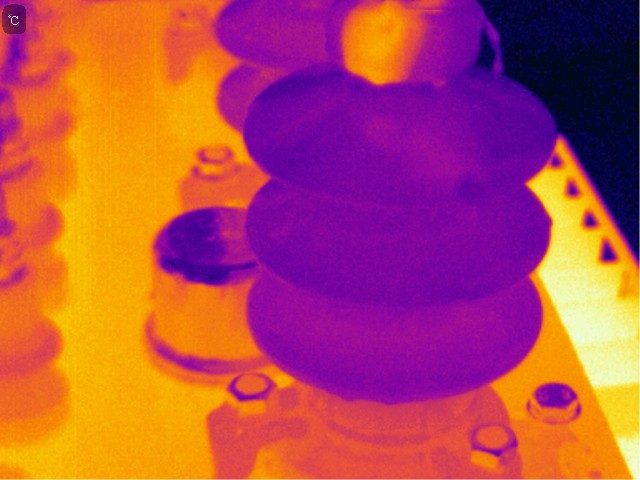Oil: (340, 1, 428, 92), (366, 116, 475, 184), (432, 77, 450, 88)
